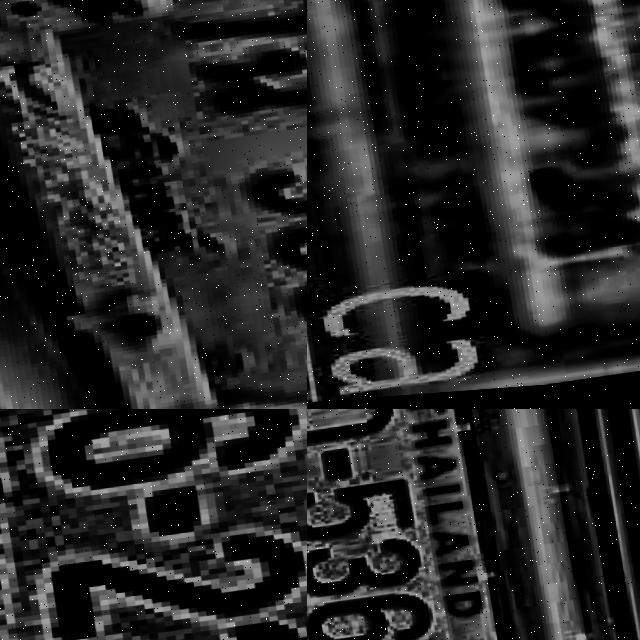license-plate: (320, 0, 640, 393), (0, 0, 307, 409), (0, 409, 307, 640), (307, 409, 559, 640)
